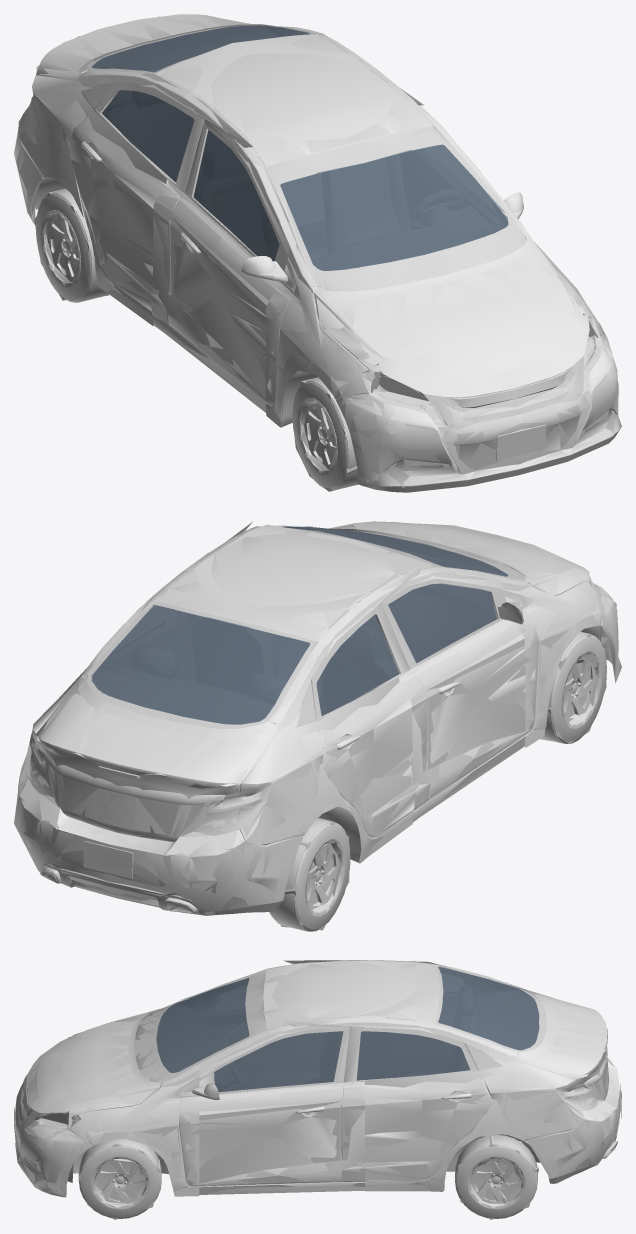
Rendered from sedan.fbx.
3 views of the same model, one above another, from view 1: azimuth 30°, elevation 25°; view 2: azimuth 150°, elevation 25°; view 3: azimuth 270°, elevation 25° (orthographic). The views are drawn at different scales.
Visible parts, largest first — view 1: Body, LOD1_Body, LOD3_Body, LOD2_Body, Door_FR, LOD3_Door_FR, LOD1_Door_FR, LOD2_Door_FR, Wheel_FR, Wheel_RR, Door_FL, LOD1_Wheel_FR (+6 smaller); view 2: Body, LOD1_Body, LOD3_Body, LOD2_Body, Door_FR, LOD3_Door_FR, LOD1_Door_FR, LOD2_Door_FR, Wheel_RR, Wheel_FR, LOD2_Wheel_RR, LOD1_Wheel_FR (+4 smaller); view 3: Body, LOD1_Body, LOD3_Body, LOD2_Body, Door_FL, LOD3_Door_FL, LOD1_Door_FL, Wheel_RL, Wheel_FL, LOD2_Door_FL, LOD2_Wheel_RL, LOD2_Wheel_FL (+4 smaller).
Boxes of the visible parts, x1,y1,x2,y2 form: Body: (16, 14, 619, 492); LOD1_Body: (16, 14, 621, 492); LOD3_Body: (14, 16, 616, 487); LOD2_Body: (17, 15, 617, 485); Door_FR: (150, 130, 316, 403); LOD3_Door_FR: (152, 130, 313, 411); LOD1_Door_FR: (150, 141, 315, 412); LOD2_Door_FR: (150, 130, 313, 399); Wheel_FR: (292, 378, 357, 490); Wheel_RR: (36, 189, 107, 302); Door_FL: (411, 105, 523, 218); LOD1_Wheel_FR: (292, 380, 349, 490); Body: (17, 521, 621, 915); LOD1_Body: (18, 523, 621, 915); LOD3_Body: (14, 521, 618, 912); LOD2_Body: (18, 521, 613, 912); Door_FR: (374, 554, 525, 822); LOD3_Door_FR: (388, 567, 525, 818); LOD1_Door_FR: (374, 555, 525, 820); LOD2_Door_FR: (389, 564, 525, 809); Wheel_RR: (271, 818, 350, 931); Wheel_FR: (542, 631, 606, 743); LOD2_Wheel_RR: (282, 832, 348, 931); LOD1_Wheel_FR: (550, 634, 606, 743); Body: (14, 960, 621, 1197); LOD1_Body: (14, 960, 621, 1197); LOD3_Body: (14, 960, 621, 1196); LOD2_Body: (15, 961, 618, 1197); Door_FL: (181, 1022, 364, 1189); LOD3_Door_FL: (180, 1030, 364, 1194); LOD1_Door_FL: (181, 1022, 364, 1194); Wheel_RL: (455, 1135, 537, 1218); Wheel_FL: (78, 1139, 161, 1218); LOD2_Door_FL: (184, 1032, 364, 1184); LOD2_Wheel_RL: (455, 1145, 521, 1218); LOD2_Wheel_FL: (79, 1145, 161, 1218).
Size of the model in its own units: 1.78 by 1.56 by 4.55.
